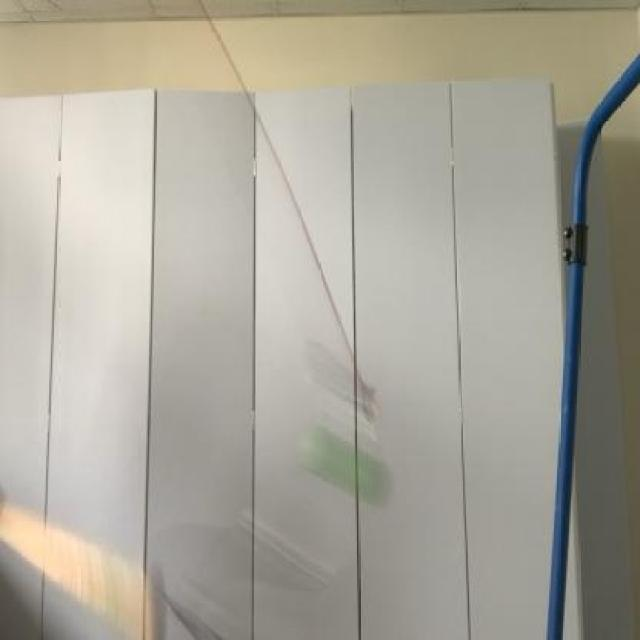baseball: (295, 410, 400, 521)
